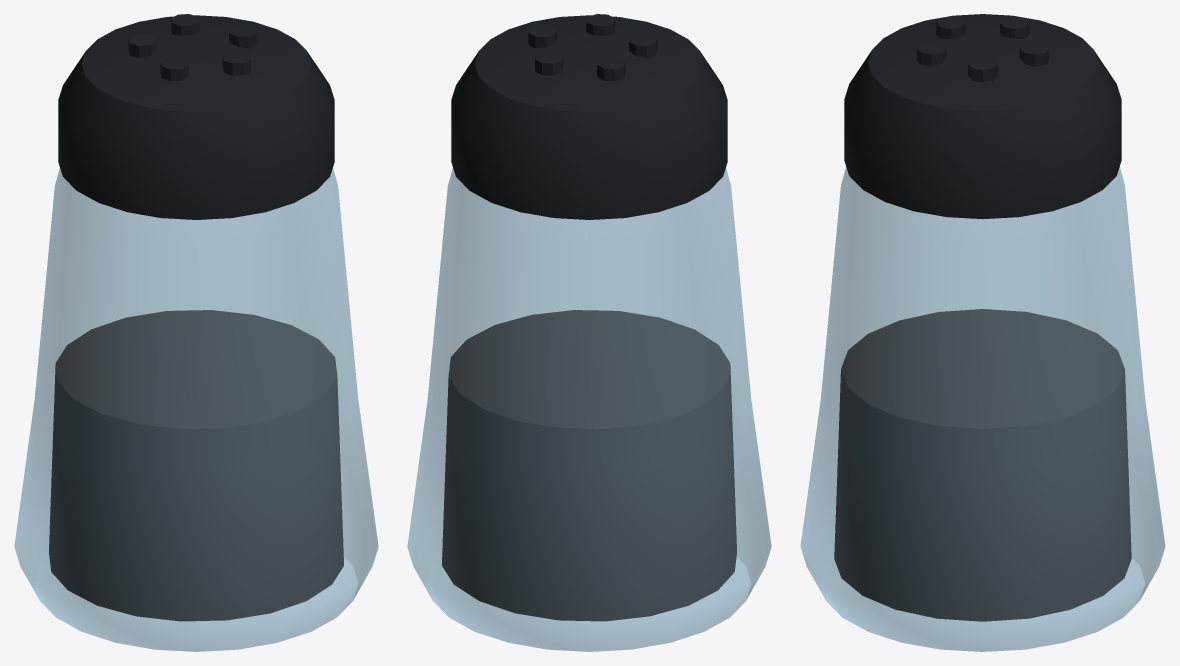
The model's file is pimenteiro.glb.
3 renders of one model, left to right at view 1: azimuth 30°, elevation 25°; view 2: azimuth 150°, elevation 25°; view 3: azimuth 270°, elevation 25°, orthographic.
Visible parts, largest first — view 1: pimenteiro; view 2: pimenteiro; view 3: pimenteiro.
Part boxes in pixels (bbox=[...]): pimenteiro: bbox=[14, 14, 378, 651]; pimenteiro: bbox=[407, 14, 771, 651]; pimenteiro: bbox=[800, 14, 1165, 651].
Size of the model in its own units: 0.054 by 0.0885 by 0.054.
Materials: 2 (1 with a texture image).
